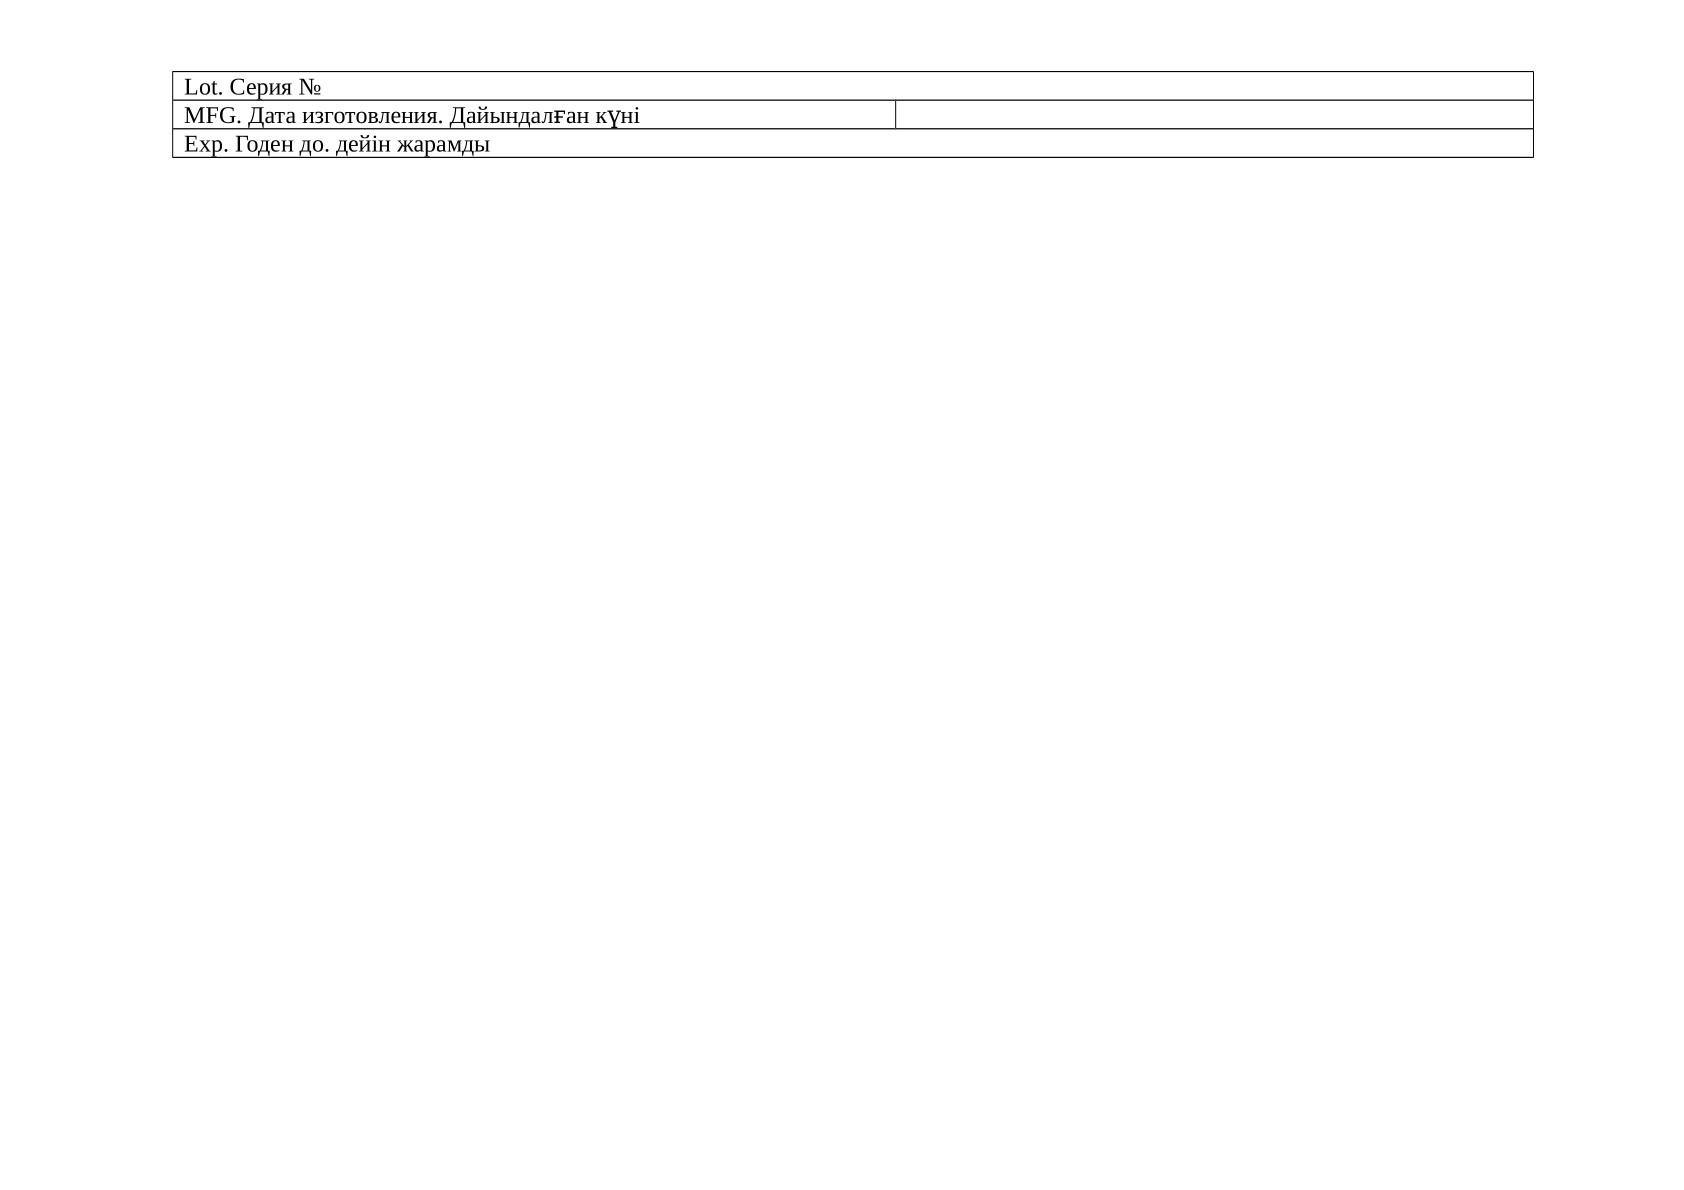full_lined: (173, 70, 1533, 158)
